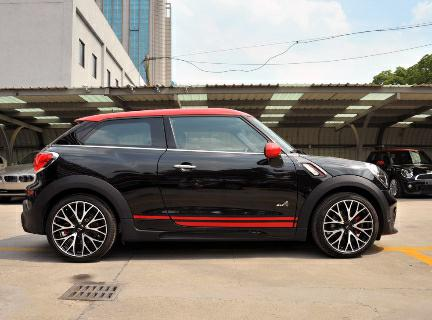MINI-JCWPACEMAN: (13, 114, 403, 253)
